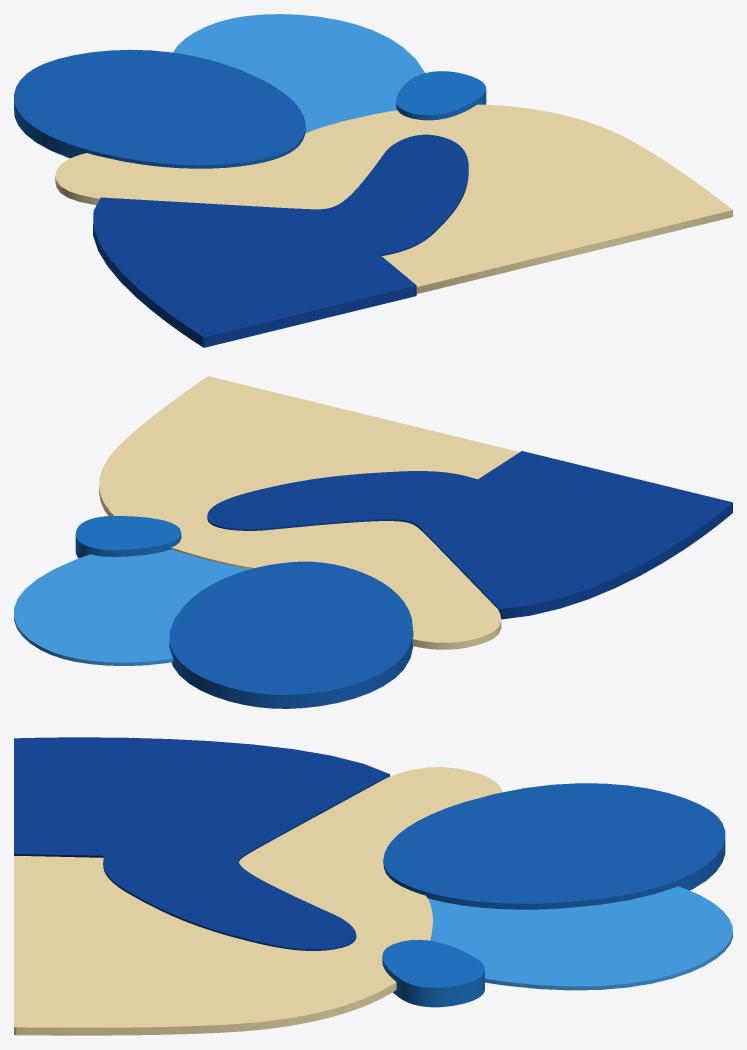
File: emoji_u1fac2.glb
3 renders of one model, top to bottom at view 1: azimuth 30°, elevation 25°; view 2: azimuth 150°, elevation 25°; view 3: azimuth 270°, elevation 25°, orthographic. The views are drawn at different scales.
Parts seen in each view (by area): view 1: emoji_u1fac2; view 2: emoji_u1fac2; view 3: emoji_u1fac2.
Boxes of the visible parts, x1,y1,x2,y2 form: emoji_u1fac2: [14, 14, 732, 347]; emoji_u1fac2: [14, 376, 732, 708]; emoji_u1fac2: [14, 737, 732, 1035].
Bounding box in the file's own units: 0.0317 × 0.001 × 0.0334.
